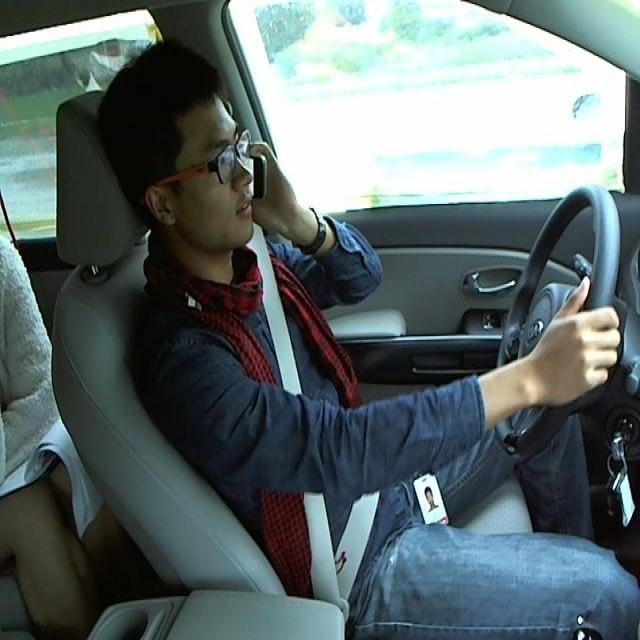using_phone: (60, 56, 339, 288)
